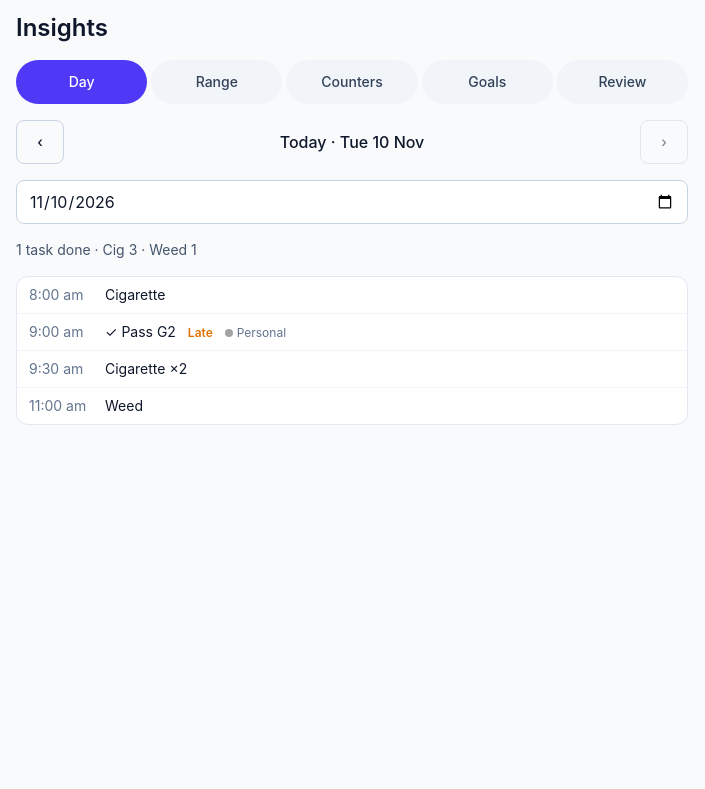
Scenario: Insights → Range › last week shows the tasks and deadlines that were missed then
Click the tab "Range" at (217, 82), box top-left (151, 60), bottom-right (282, 104)
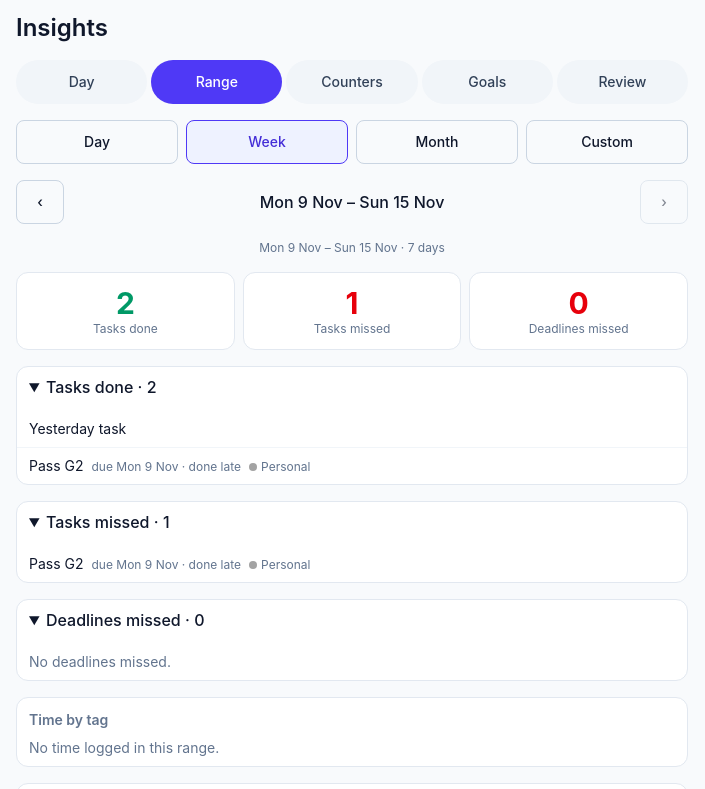
Click the button named "Previous" at (40, 202), box top-left (16, 180), bottom-right (64, 224)
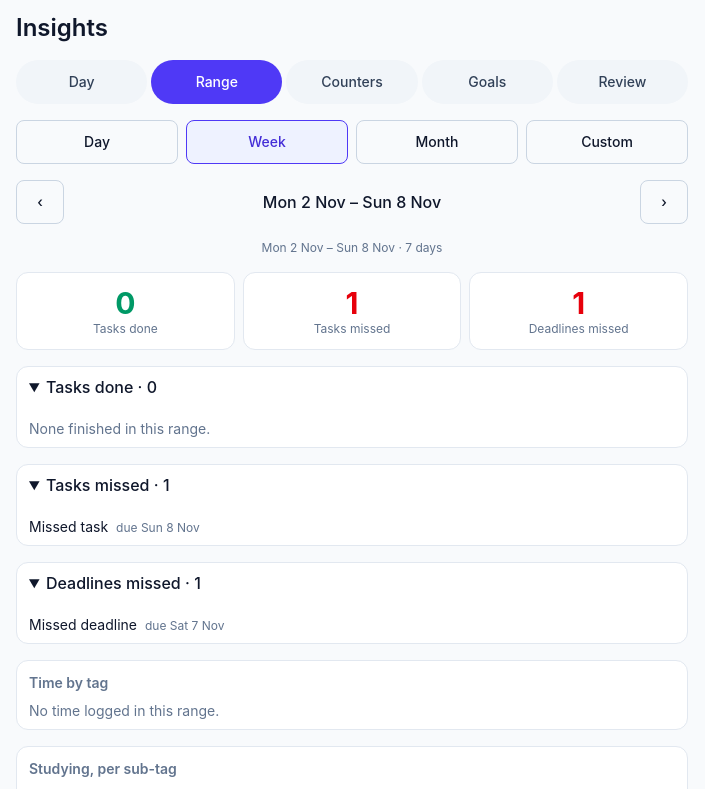
Expected: the text named "Tasks missed: 1" is shown, top-left (346, 285), bottom-right (358, 321)
Expected: the text named "Deadlines missed: 1" is shown, top-left (572, 285), bottom-right (585, 321)
Expected: the text "Missed deadline" is shown, top-left (29, 616), bottom-right (137, 633)
